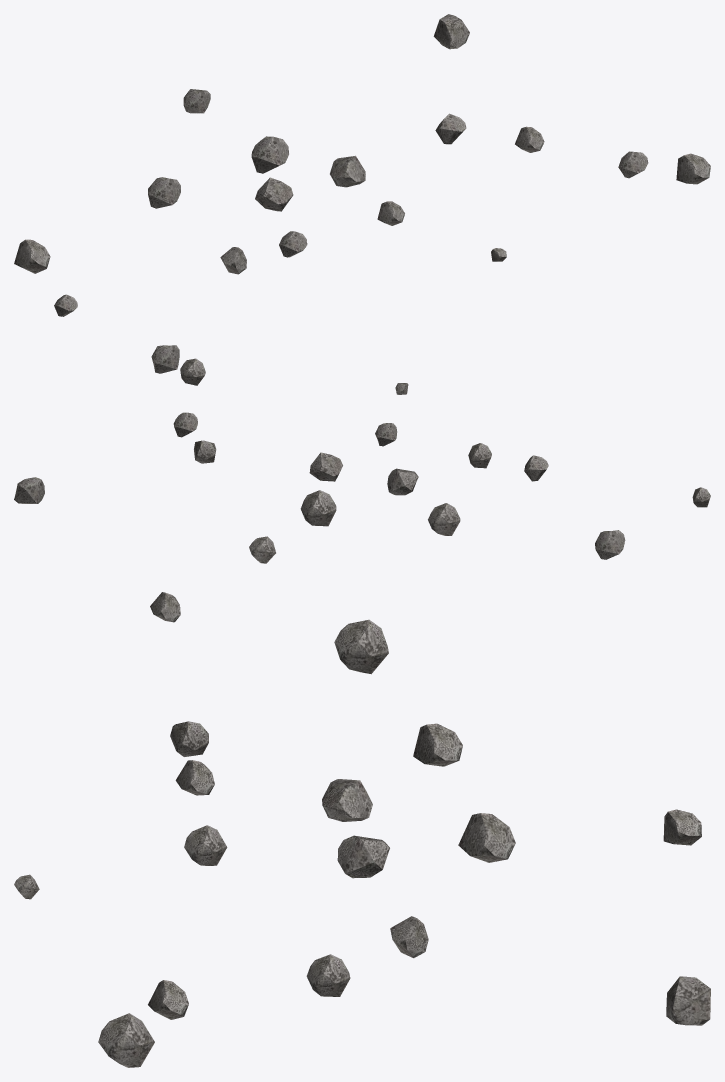
The picture shows the model from 3 angles, top to bottom: view 1: azimuth 30°, elevation 25°; view 2: azimuth 150°, elevation 25°; view 3: azimuth 270°, elevation 25°; orthographic projection. The views are drawn at different scales.
Visible parts, largest first — view 1: SM_Rubble03_LOD0; view 2: SM_Rubble03_LOD0; view 3: SM_Rubble03_LOD0.
Boxes of the visible parts, left/top/right/bottom form: SM_Rubble03_LOD0: left=14, top=14, right=710, bottom=316; SM_Rubble03_LOD0: left=14, top=345, right=710, bottom=563; SM_Rubble03_LOD0: left=14, top=592, right=710, bottom=1067.
Size of the model in its own units: 1.35 by 0.0876 by 0.8938.
1 material, 1 textured.
